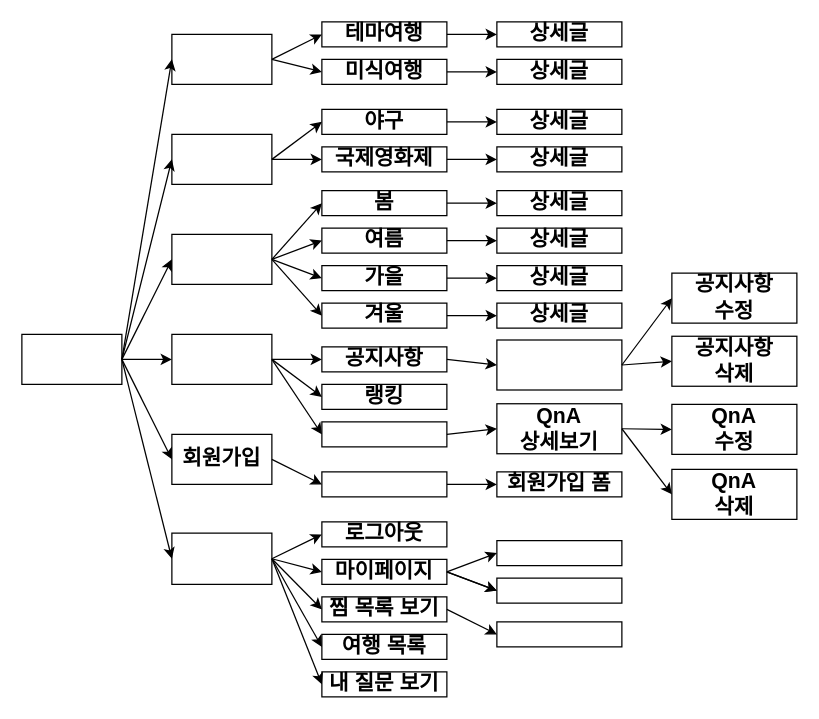
This 819x719 diagram has some shape labels left out. The centre of each missing label's shape, as x and y in pixels:
"QnA" goes at pixel 384 434.
"공연" goes at pixel 221 158.
"공지사항 상세보기" goes at pixel 559 364.
"로그인" goes at pixel 221 558.
"메인" goes at pixel 71 358.
"약관동의" goes at pixel 384 484.
"여행" goes at pixel 221 58.
"정보" goes at pixel 221 358.
"정보수정" goes at pixel 559 552.
"찜 삭제" goes at pixel 559 634.
"축제" goes at pixel 221 258.
"회원탈퇴" goes at pixel 559 590.
